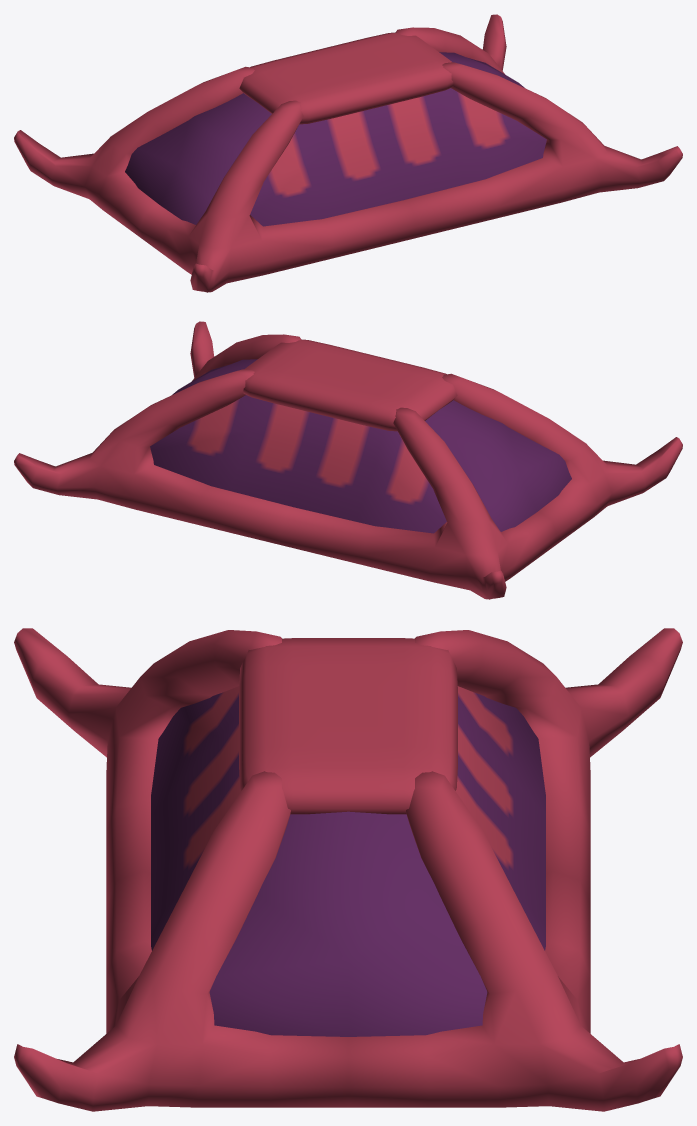
Rendered from block_4.obj.
3 renders of one model, top to bottom at view 1: azimuth 30°, elevation 25°; view 2: azimuth 150°, elevation 25°; view 3: azimuth 270°, elevation 25°, orthographic. The views are drawn at different scales.
Parts seen in each view (by area): view 1: Cube.005_Cube.007, Cube.004_Cube.006; view 2: Cube.005_Cube.007, Cube.004_Cube.006; view 3: Cube.005_Cube.007, Cube.004_Cube.006.
Part boxes in pixels (<box>): Cube.005_Cube.007: <box>14,14,682,292</box>; Cube.004_Cube.006: <box>125,52,546,226</box>; Cube.005_Cube.007: <box>14,321,682,599</box>; Cube.004_Cube.006: <box>150,359,571,533</box>; Cube.005_Cube.007: <box>14,628,682,1111</box>; Cube.004_Cube.006: <box>151,686,545,1036</box>.
Size of the model in its own units: 5.09 by 1.31 by 3.39.
